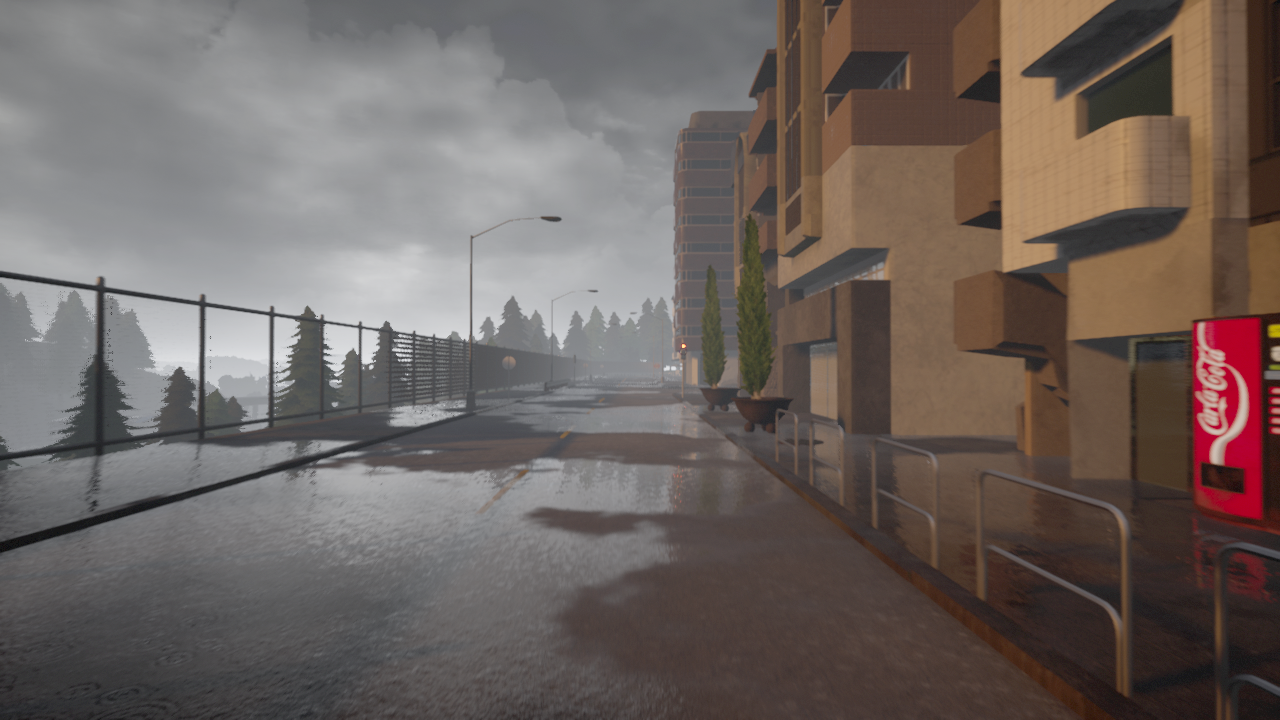red: (679, 342, 686, 360)
